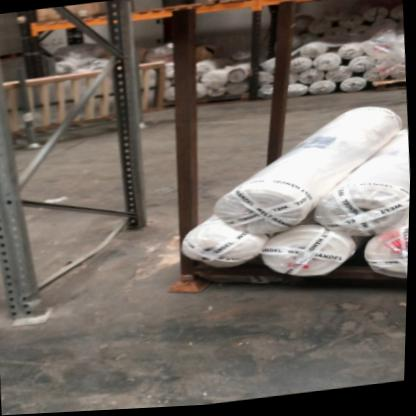vertical_damage: (1, 271, 54, 329)
